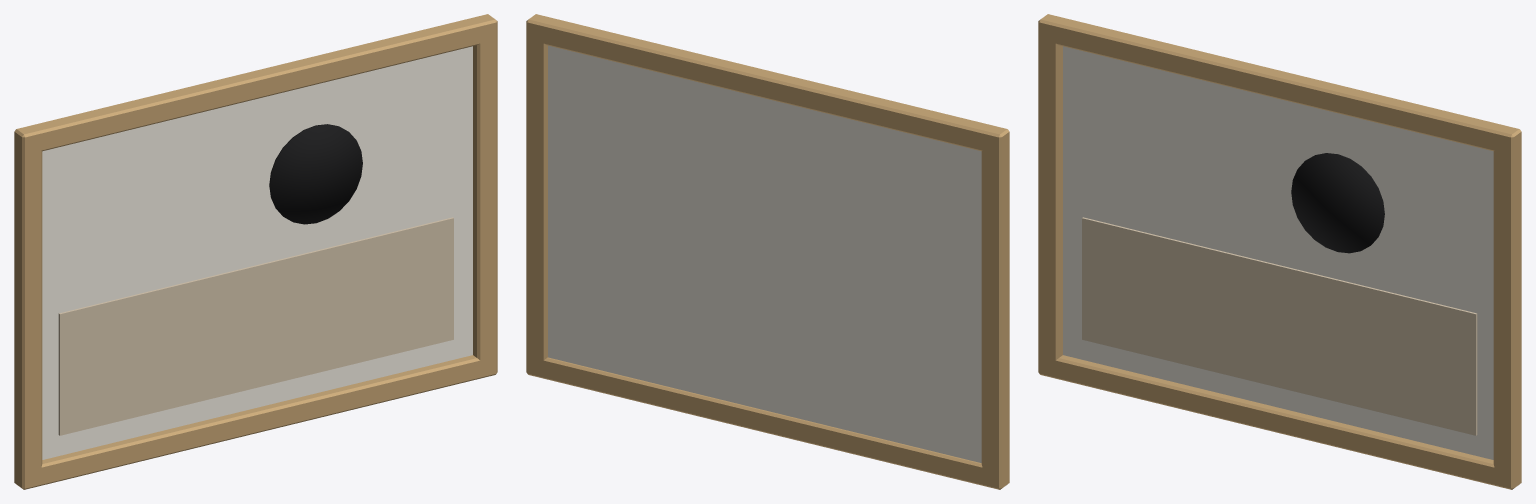
File: i_pic_1.glb
The picture shows the model from 3 angles, left to right: view 1: azimuth 30°, elevation 25°; view 2: azimuth 150°, elevation 25°; view 3: azimuth 330°, elevation 25°; orthographic projection.
Parts seen in each view (by area): view 1: o.004, o.005, o.001, o, o.002, o.003, o.006; view 2: o.004, o.001, o, o.002, o.003; view 3: o.004, o.005, o.001, o, o.003, o.002, o.006.
Part boxes in pixels (x1,y1,x2,y2): o.004: (42,46,472,459); o.005: (58,217,453,435); o.001: (14,14,497,154); o: (22,355,497,489); o.002: (14,129,42,488); o.003: (473,38,497,375); o.006: (269,124,362,224); o.004: (548,45,981,462); o.001: (526,14,1009,154); o: (526,356,1009,489); o.002: (981,128,1009,488); o.003: (526,21,547,376); o.004: (1063,46,1493,459); o.005: (1082,217,1477,435); o.001: (1038,14,1521,154); o: (1039,355,1521,489); o.003: (1493,128,1521,488); o.002: (1038,21,1062,376); o.006: (1291,153,1384,253).
Size of the model in its own units: 0.7 by 0.5 by 0.025.
